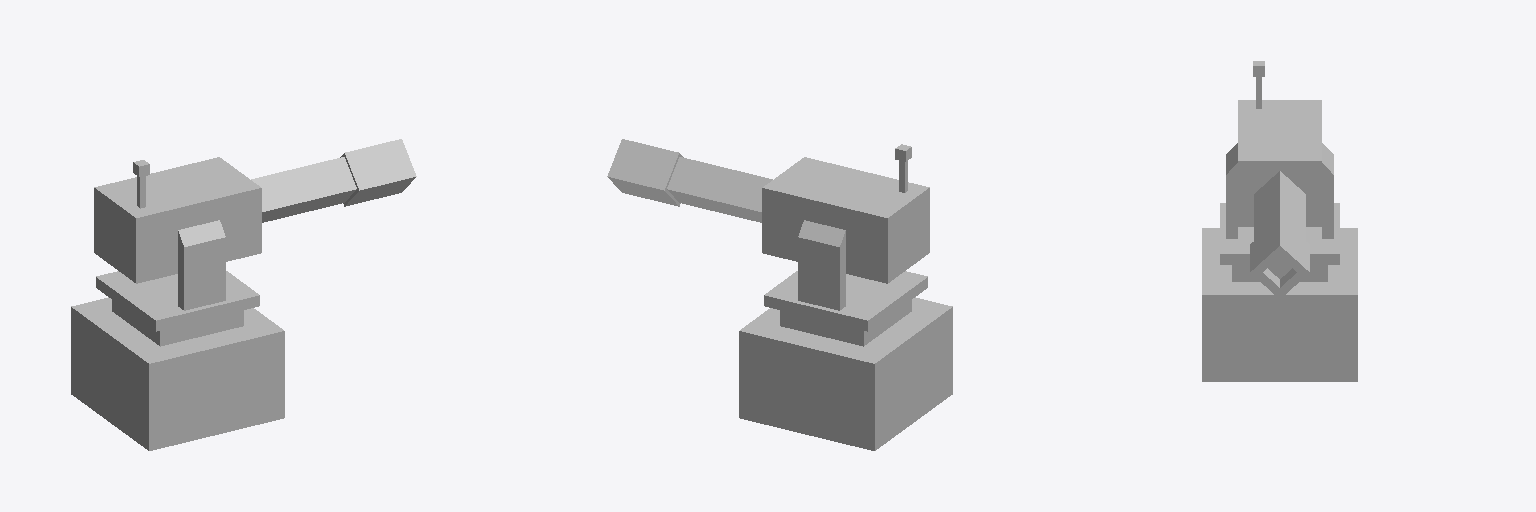
Rendered from sentry_turret.obj.
The picture shows the model from 3 angles: view 1: azimuth 30°, elevation 25°; view 2: azimuth 150°, elevation 25°; view 3: azimuth 270°, elevation 25°; orthographic projection.
Parts seen in each view (by area): view 1: Base_Cube_1, Head_Cube_6, Base_3_Cube_3, Barrel_Cube_9, Claw_1_Cube_4, Barrel_Tip_Cube_10, Base_2_Cube_2; view 2: Base_Cube_1, Head_Cube_6, Base_3_Cube_3, Barrel_Cube_9, Claw_2_Cube_5, Barrel_Tip_Cube_10, Base_2_Cube_2; view 3: Base_Cube_1, Head_Cube_6, Barrel_Tip_Cube_10, Barrel_Cube_9, Base_3_Cube_3, Claw_2_Cube_5, Claw_1_Cube_4, Base_2_Cube_2.
Boxes of the visible parts, box(x1,y1,x2,y2) form: Base_Cube_1: box(71, 297, 284, 450); Head_Cube_6: box(94, 157, 261, 283); Base_3_Cube_3: box(96, 271, 259, 331); Barrel_Cube_9: box(251, 157, 356, 222); Claw_1_Cube_4: box(178, 220, 225, 310); Barrel_Tip_Cube_10: box(340, 139, 416, 206); Base_2_Cube_2: box(112, 300, 243, 346); Base_Cube_1: box(739, 297, 952, 450); Head_Cube_6: box(762, 157, 929, 283); Base_3_Cube_3: box(764, 271, 927, 331); Barrel_Cube_9: box(667, 157, 772, 222); Claw_2_Cube_5: box(798, 220, 845, 310); Barrel_Tip_Cube_10: box(607, 139, 683, 206); Base_2_Cube_2: box(780, 300, 911, 346); Base_Cube_1: box(1202, 228, 1357, 381); Head_Cube_6: box(1238, 100, 1321, 226); Barrel_Tip_Cube_10: box(1250, 218, 1309, 298); Barrel_Cube_9: box(1254, 171, 1305, 240); Base_3_Cube_3: box(1220, 203, 1339, 264); Claw_2_Cube_5: box(1322, 143, 1333, 238); Claw_1_Cube_4: box(1226, 143, 1237, 238); Base_2_Cube_2: box(1232, 265, 1327, 281).
Bounding box in the file's own units: 2.79 × 2.4 × 1.3.